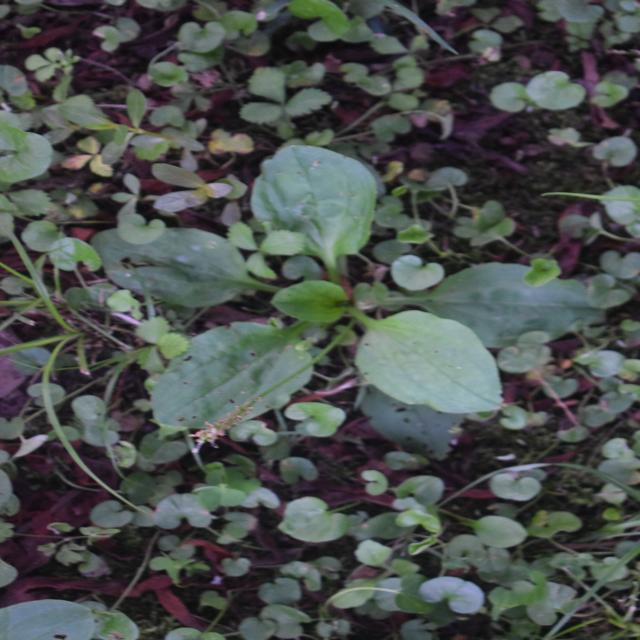plantain: (174, 100, 456, 514)
